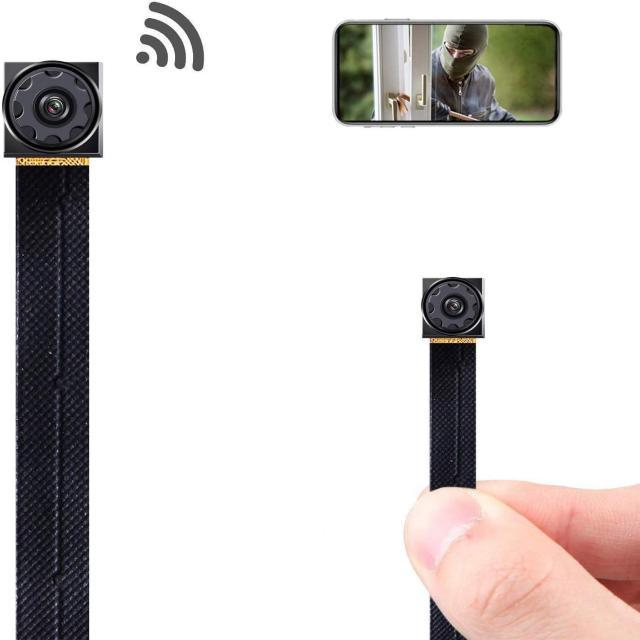hidden camera: (36, 84, 78, 131), (440, 295, 469, 322)
